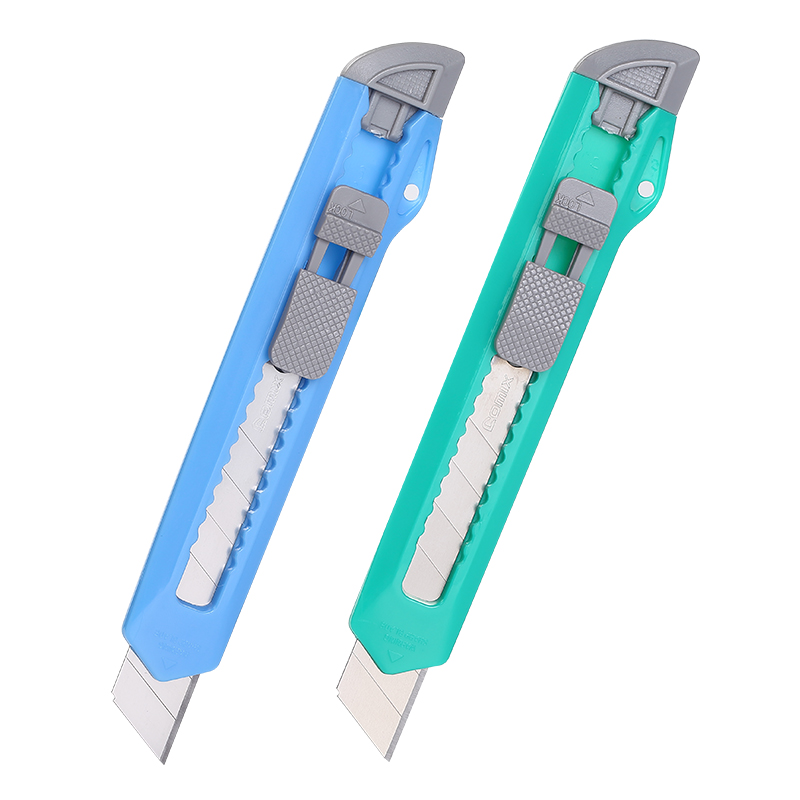cutter: (333, 38, 701, 765), (110, 42, 465, 766)
